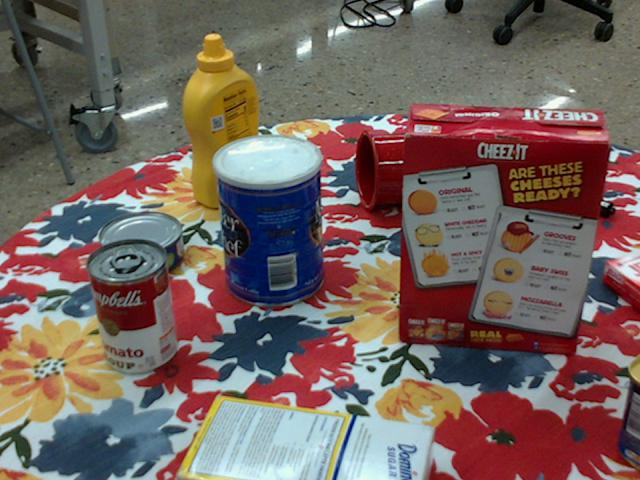cracker_box: (398, 104, 612, 357)
gelatin_box: (602, 252, 639, 311)
large_marker: (516, 172, 616, 216)
master_chef_can: (213, 133, 323, 307)
mug: (354, 132, 443, 213)
mustard_bottle: (185, 36, 267, 209)
potted_meat_can: (620, 356, 639, 468)
sugar_box: (174, 396, 436, 479)
tomato_soup_can: (87, 238, 177, 373)
tuna_fish_can: (100, 211, 185, 277)
